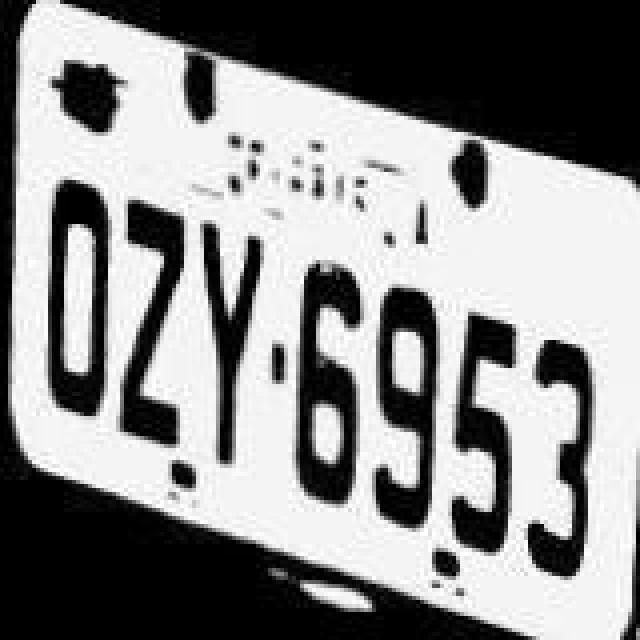3: (518, 338, 598, 574)
5: (442, 308, 526, 552)
6: (284, 256, 364, 500)
9: (368, 284, 440, 528)
O: (34, 176, 118, 416)
Y: (192, 220, 264, 472)
Z: (116, 198, 196, 450)
